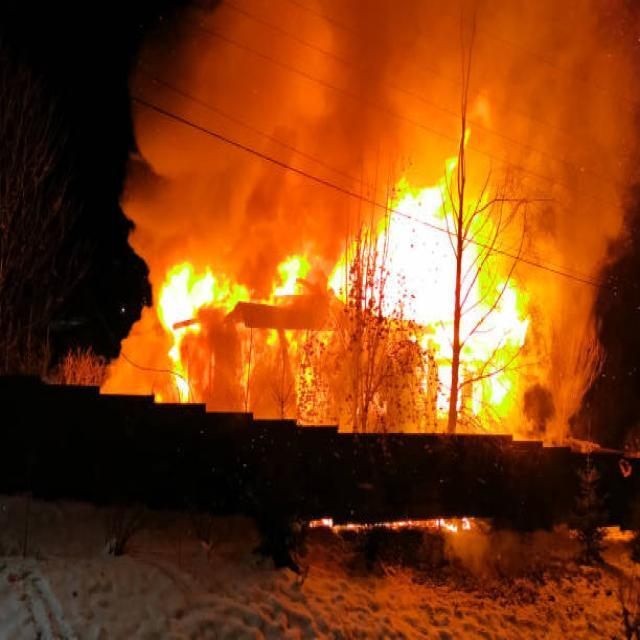Fire: (374, 176, 542, 420), (154, 262, 226, 348), (268, 242, 315, 300)
Smoke: (153, 1, 640, 251), (255, 136, 618, 420), (120, 155, 253, 408)
